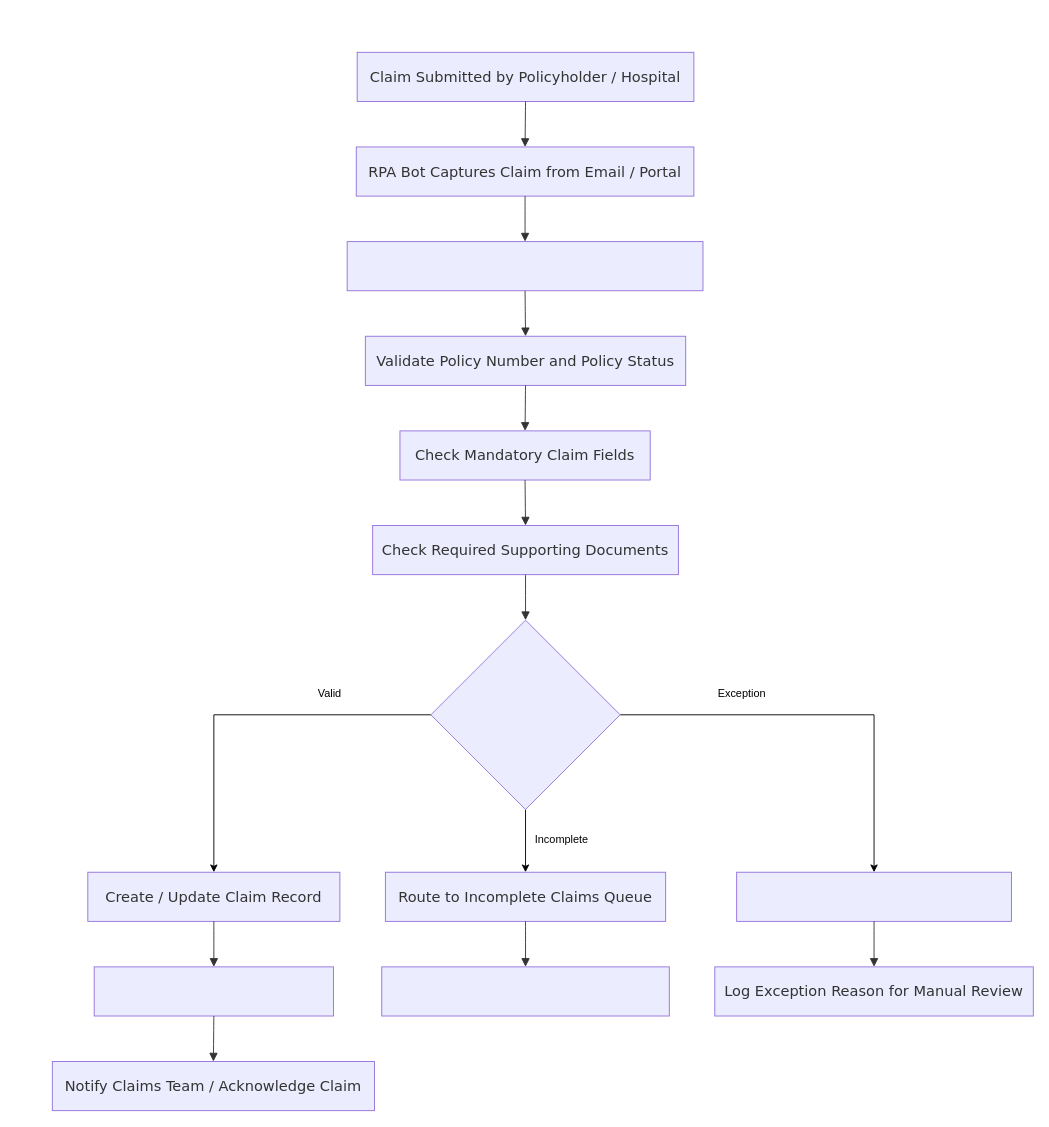
Image size: 1049x1127. Some labels were removed from this diagram. The shapes that lost their labels are listed below. From the top down, each one's centre as x and y in pixels, then its label:
At point (524, 266): "Extract Claim Data and Supporting Documents".
At point (525, 714): "Validation Result".
At point (873, 896): "Route to Exception Review Queue".
At point (213, 991): "Route to Valid Claims Queue".
At point (525, 991): "Send Missing Document Notification".
